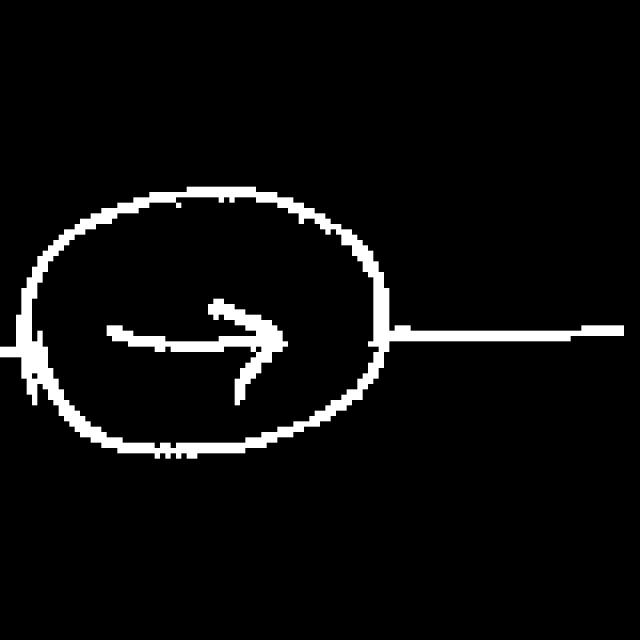current_source: (7, 184, 402, 475)
